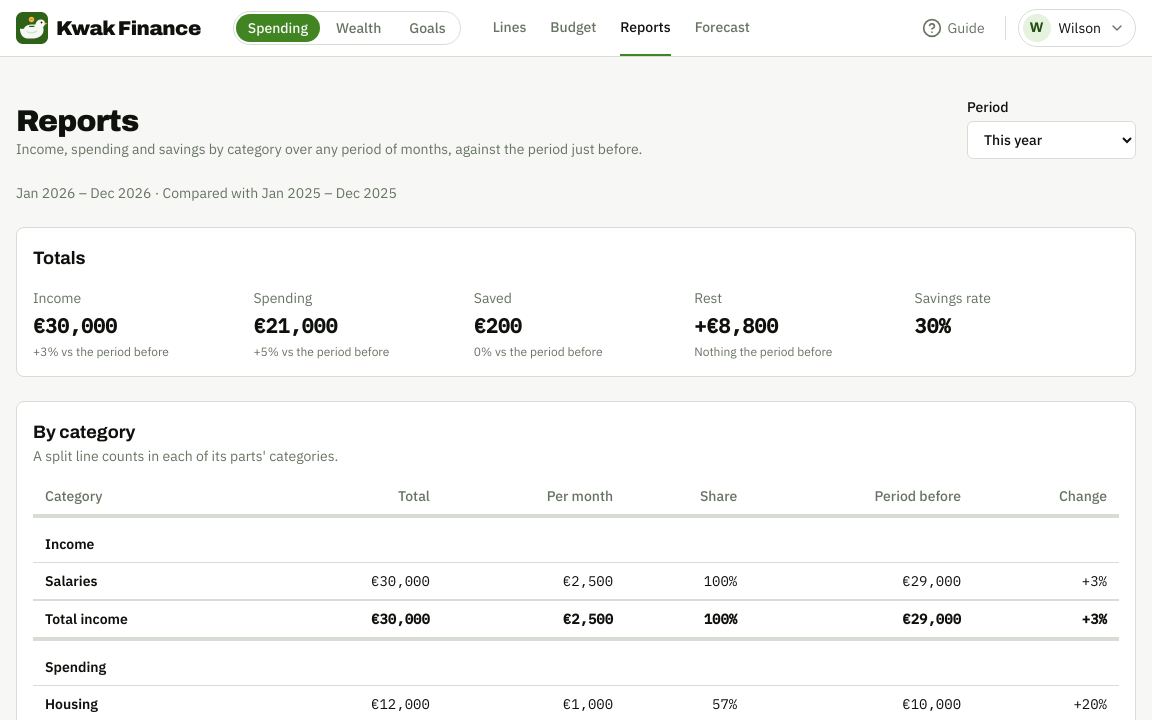
Test: a custom period ending before it starts is not asked for
This screenshot has width=1152, height=720.
Expected: the element "Totals" is shown, [16, 227, 1136, 377]
Select "Custom period" in the dropdown labelled "Period" at (1052, 140), box [967, 121, 1136, 159]
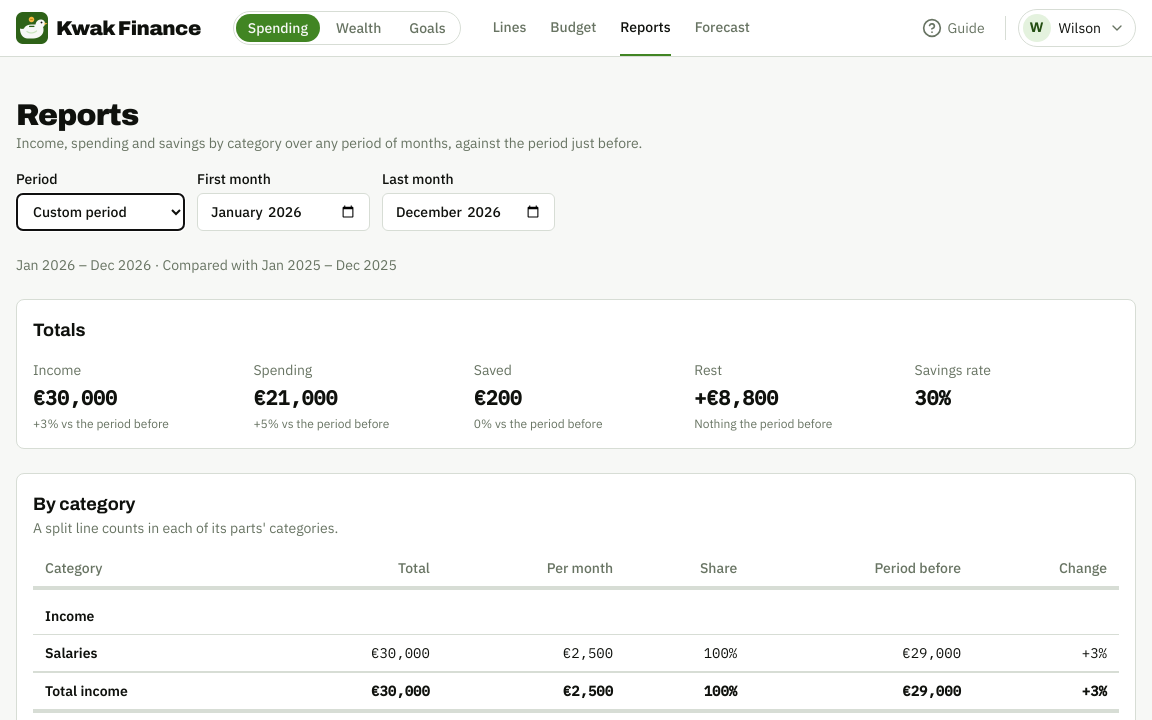
Replace the text in the field labelled "Last month" with "2020-01" at (468, 212), box [382, 193, 555, 231]
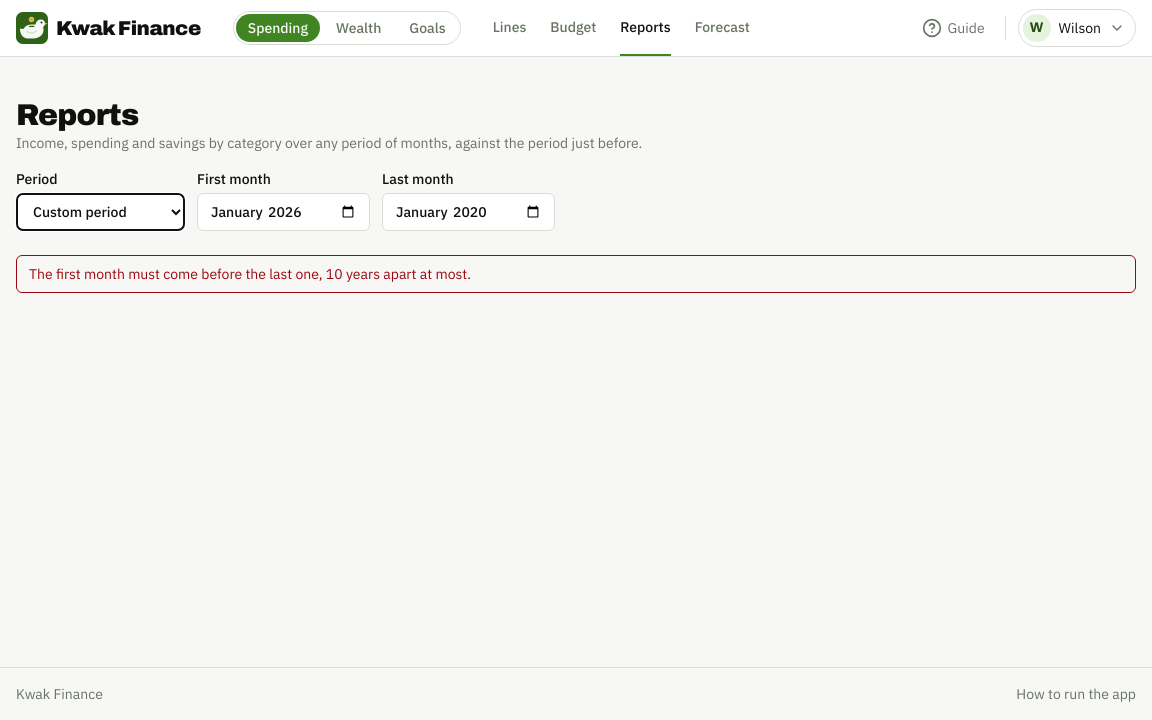
Expected: the message shows "must come before", [29, 265, 471, 283]
